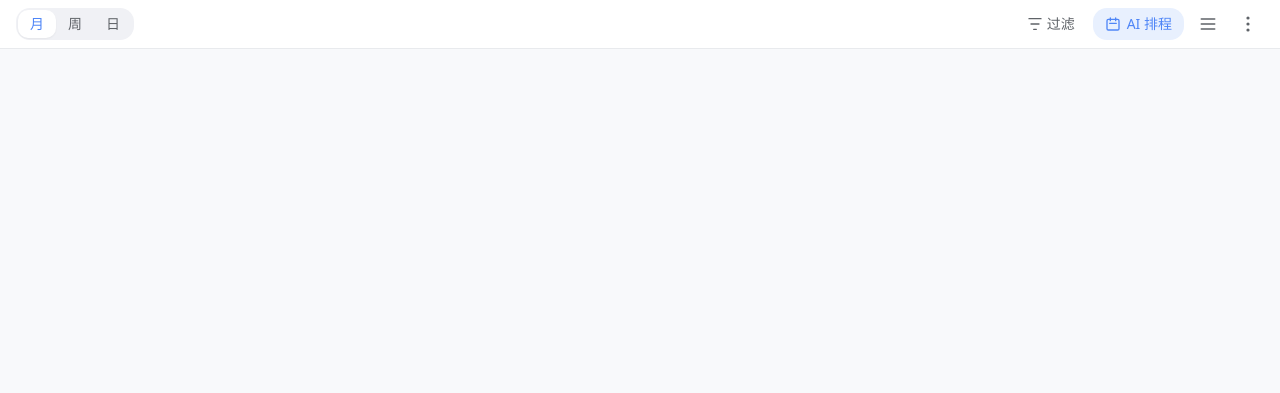
Test: CalendarToolbar 日历工具栏 › 过滤菜单打开/关闭 › 点击过滤按钮打开过滤菜单
Click the button with aria-label "日历过滤" at (1051, 24), box [1017,8,1085,40]
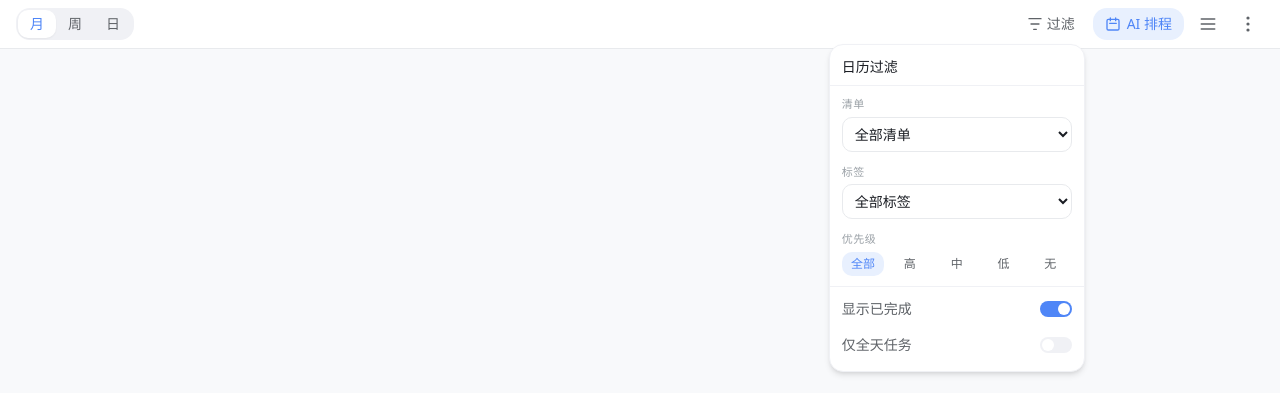
Expected: the text "日历过滤" is shown, [842,57,898,77]
Expected: the text "清单" is shown, [842,96,865,111]
